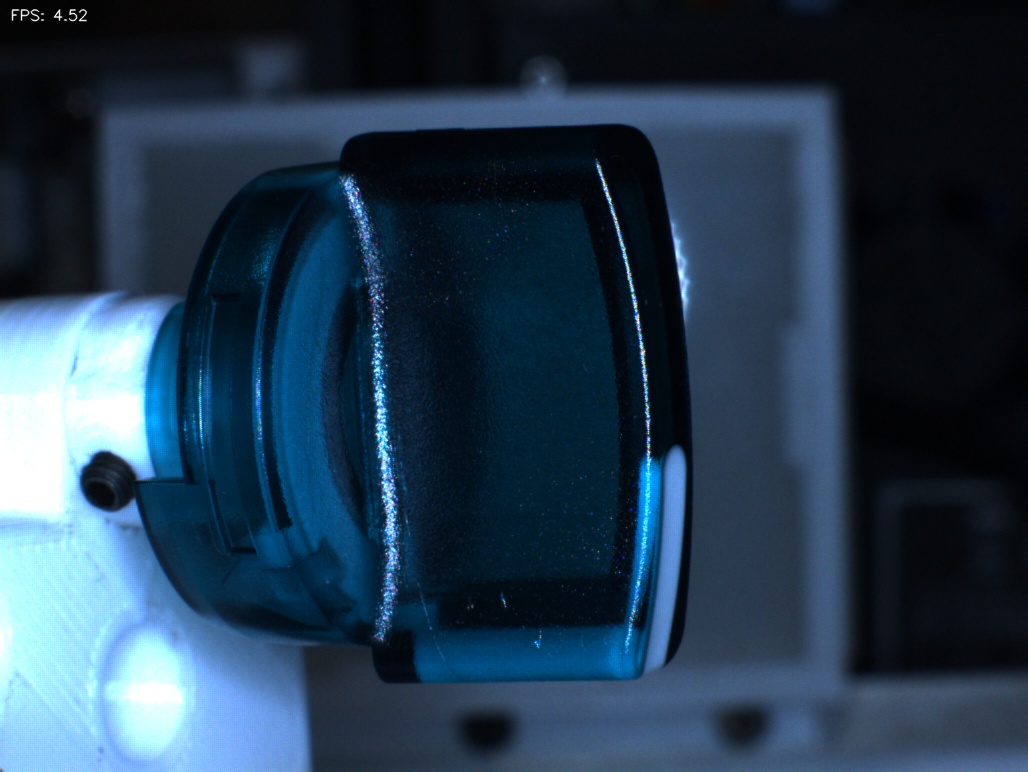Givrage: (394, 547, 462, 674), (477, 566, 563, 665)
